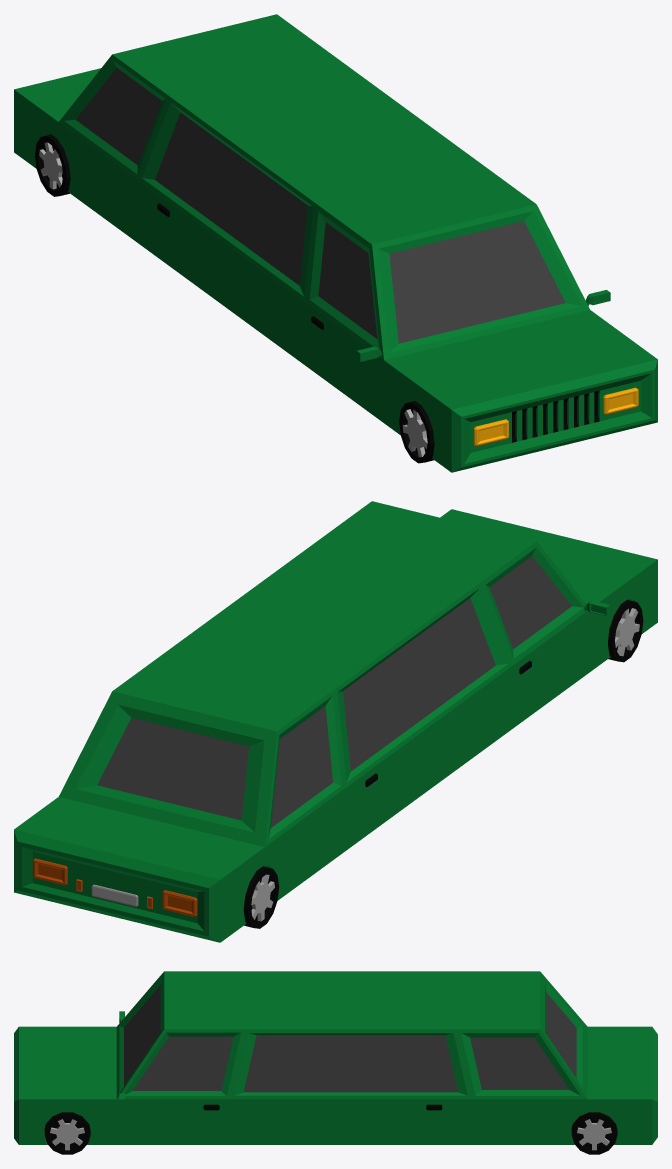
Rendered from fr_wheel_2.glb.
The picture shows the model from 3 angles, top to bottom: view 1: azimuth 30°, elevation 25°; view 2: azimuth 150°, elevation 25°; view 3: azimuth 270°, elevation 25°; orthographic projection. The views are drawn at different scales.
Parts seen in each view (by area): view 1: FR WHEEL.018_BODY.013_0; view 2: FR WHEEL.018_BODY.013_0; view 3: FR WHEEL.018_BODY.013_0.
Boxes of the visible parts, box(x1,y1,x2,y2) form: FR WHEEL.018_BODY.013_0: box(14, 14, 657, 472); FR WHEEL.018_BODY.013_0: box(14, 501, 657, 942); FR WHEEL.018_BODY.013_0: box(14, 971, 657, 1154).
Size of the model in its own units: 0.3616 by 0.2233 by 1.11.
Materials: 1 (1 with a texture image).
